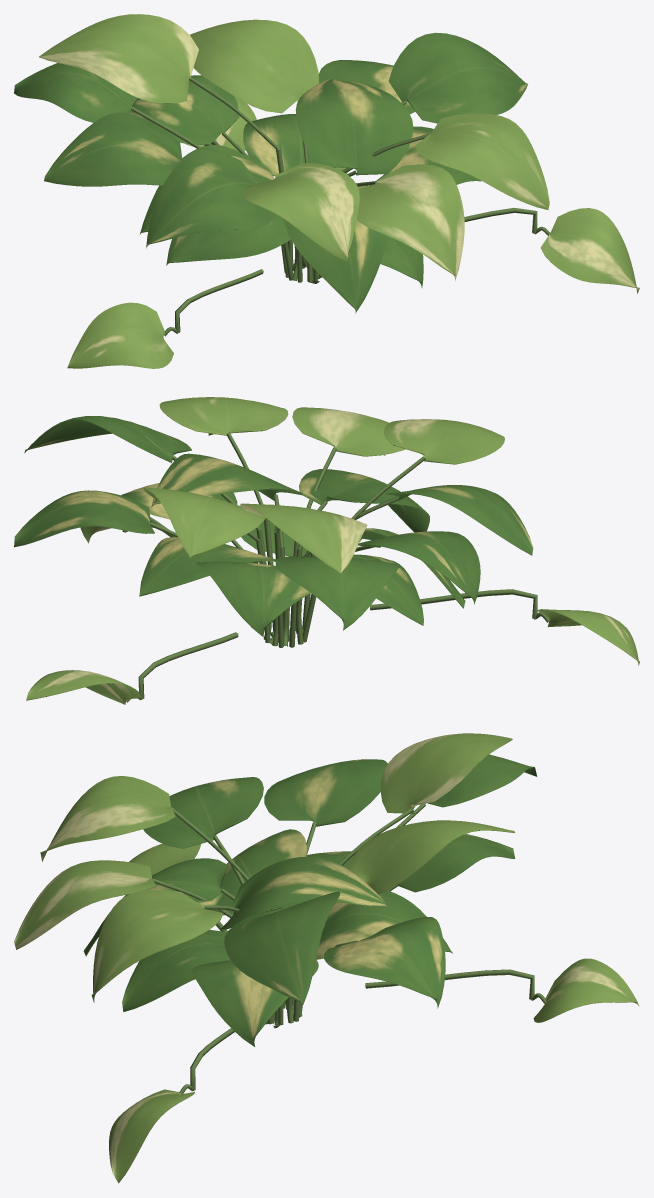
Rendered from pothos-stage-4.glb.
3 views of the same model, one above another, from view 1: azimuth 30°, elevation 25°; view 2: azimuth 150°, elevation 25°; view 3: azimuth 270°, elevation 25° (orthographic). The views are drawn at different scales.
Parts seen in each view (by area): view 1: Leaf_17, Leaf_14, Leaf_8, Leaf_11, Leaf_13, Leaf_10, Leaf_16, Leaf_7, Leaf_15, Leaf_31, Leaf_30, Leaf_12 (+10 smaller); view 2: PlantBranches, Leaf_12, Leaf_6, Leaf_14, Leaf_9, Leaf_17, Leaf_15, Leaf_16, Leaf_8, Leaf_7, Leaf_13, Leaf_5 (+9 smaller); view 3: Leaf_11, Leaf_16, Leaf_6, Leaf_17, Leaf_7, Leaf_8, Leaf_15, Leaf_13, Leaf_14, Leaf_10, Leaf_3, PlantBranches (+9 smaller).
Boxes of the visible parts, x1,y1,x2,y2 form: Leaf_17: [39, 14, 198, 103]; Leaf_14: [190, 19, 319, 113]; Leaf_8: [295, 78, 413, 175]; Leaf_11: [388, 32, 527, 123]; Leaf_13: [357, 164, 464, 280]; Leaf_10: [146, 149, 276, 248]; Leaf_16: [415, 113, 549, 209]; Leaf_7: [44, 112, 182, 186]; Leaf_15: [242, 163, 359, 261]; Leaf_31: [540, 208, 639, 293]; Leaf_30: [67, 302, 173, 368]; Leaf_12: [14, 63, 138, 122]; PlantBranches: [122, 433, 549, 702]; Leaf_12: [275, 556, 400, 630]; Leaf_6: [14, 490, 154, 547]; Leaf_14: [143, 487, 265, 558]; Leaf_9: [196, 561, 310, 637]; Leaf_17: [240, 503, 367, 573]; Leaf_15: [384, 419, 504, 464]; Leaf_16: [159, 397, 288, 435]; Leaf_8: [151, 453, 302, 507]; Leaf_7: [358, 531, 480, 604]; Leaf_13: [292, 407, 405, 456]; Leaf_5: [299, 469, 429, 532]; Leaf_11: [224, 891, 340, 1004]; Leaf_16: [91, 889, 223, 1002]; Leaf_6: [324, 916, 445, 1008]; Leaf_17: [380, 733, 512, 813]; Leaf_7: [264, 759, 387, 826]; Leaf_8: [221, 856, 386, 929]; Leaf_15: [40, 776, 175, 861]; Leaf_13: [14, 860, 155, 949]; Leaf_14: [347, 820, 514, 894]; Leaf_10: [143, 777, 263, 848]; Leaf_3: [192, 959, 318, 1046]; PlantBranches: [153, 804, 546, 1093].
Size of the model in its own units: 2.77 by 1.15 by 2.55.
Materials: 3 (2 with a texture image).
